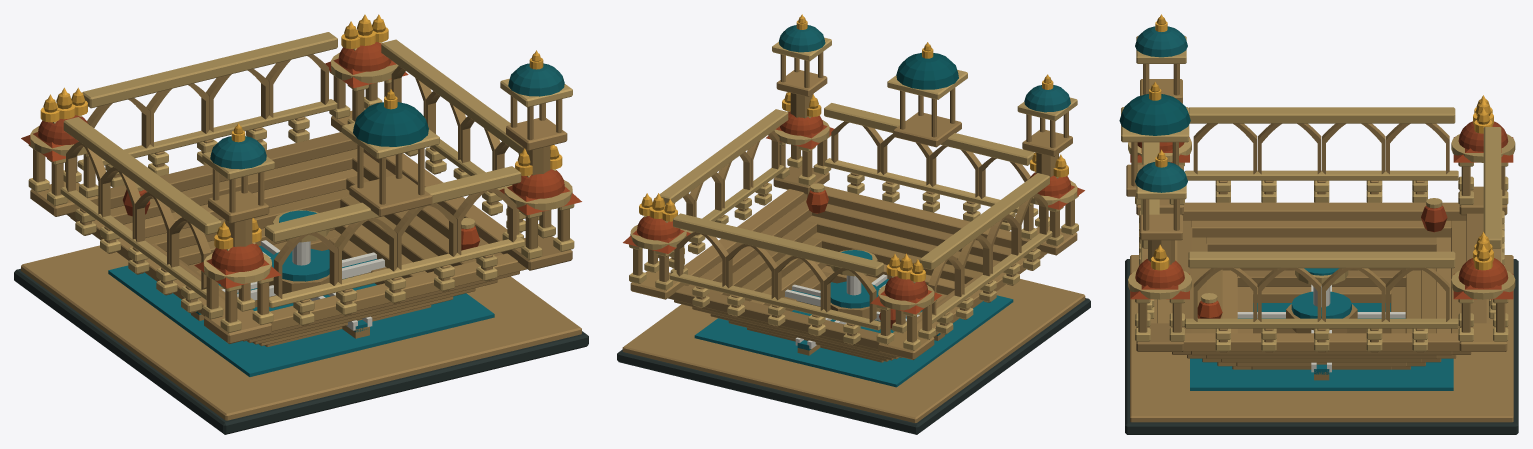
3 renders of one model, left to right at view 1: azimuth 30°, elevation 25°; view 2: azimuth 150°, elevation 25°; view 3: azimuth 270°, elevation 25°, orthographic. The views are drawn at different scales.
Parts seen in each view (by area): view 1: stepwell_level9_structure, stepwell_level9_metal; view 2: stepwell_level9_structure, stepwell_level9_metal; view 3: stepwell_level9_structure, stepwell_level9_metal.
Boxes of the visible parts, <box> form: stepwell_level9_structure: <box>14,19,588,434</box>; stepwell_level9_metal: <box>40,14,562,249</box>; stepwell_level9_structure: <box>617,17,1090,434</box>; stepwell_level9_metal: <box>639,14,1068,281</box>; stepwell_level9_structure: <box>1119,17,1518,434</box>; stepwell_level9_metal: <box>1149,14,1493,270</box>.
Size of the model in its own units: 5.6 by 4.26 by 5.68.
